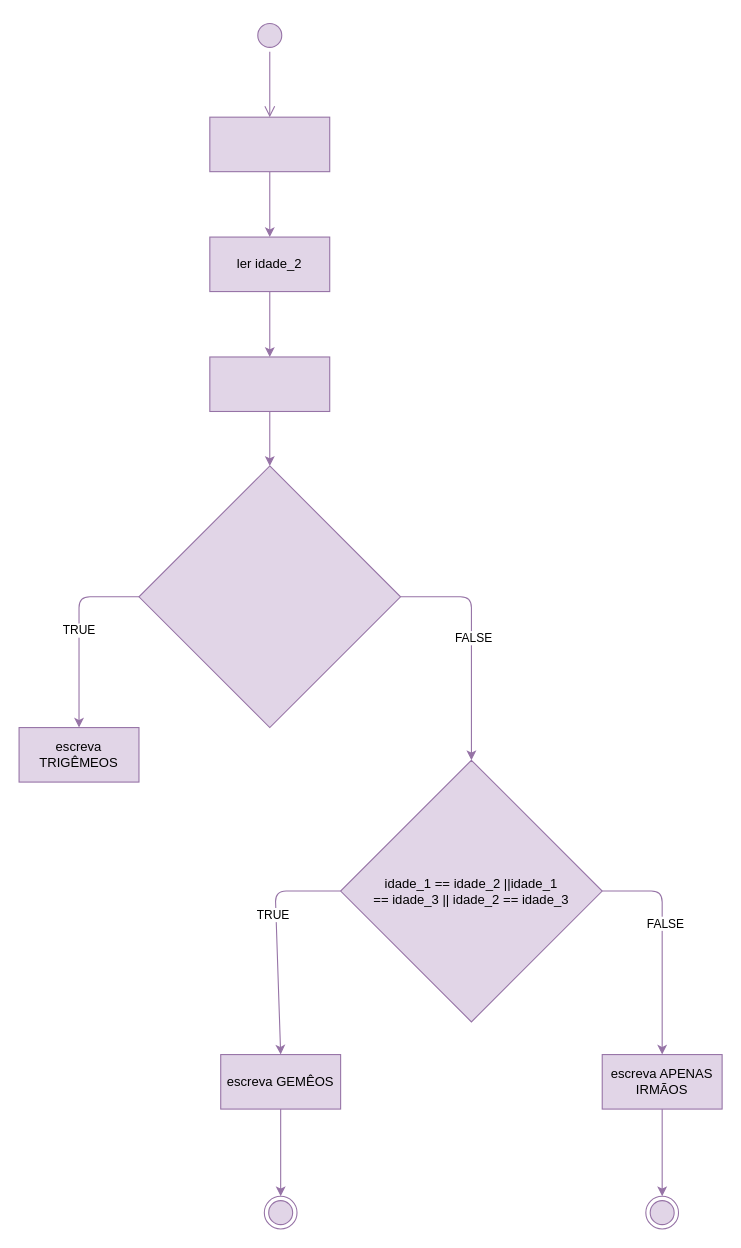
Image size: 741x1248. Some labels were removed from this diagram. Each missing label, with the box of its shape:
idade_1 == idade_2 && idade_1 == idade_3 && idade_2 == idade_3: (138, 465, 401, 728)
ler idade_1: (209, 116, 330, 172)
ler idade_3: (209, 356, 330, 411)
